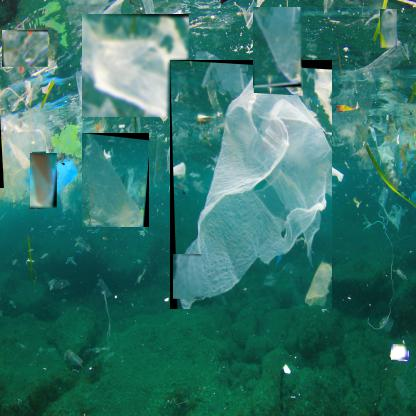waste: (170, 60, 333, 310), (82, 14, 190, 118), (82, 133, 150, 228), (254, 8, 304, 90), (0, 112, 47, 189), (2, 30, 49, 68), (30, 154, 58, 210), (174, 254, 204, 300), (380, 9, 398, 49), (392, 344, 410, 361)
